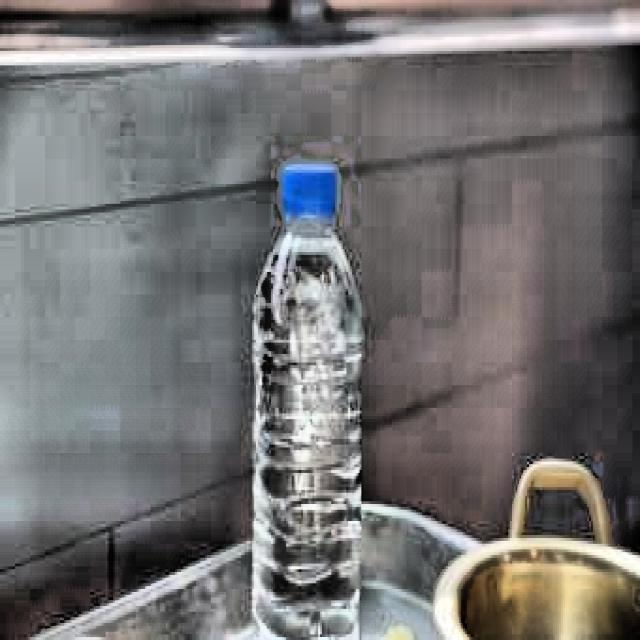Bottles: (245, 144, 372, 640)
